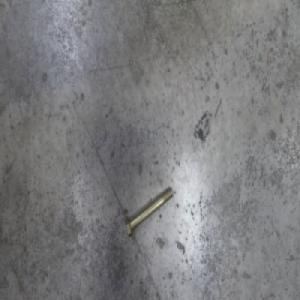Bolt: (124, 183, 174, 240)
